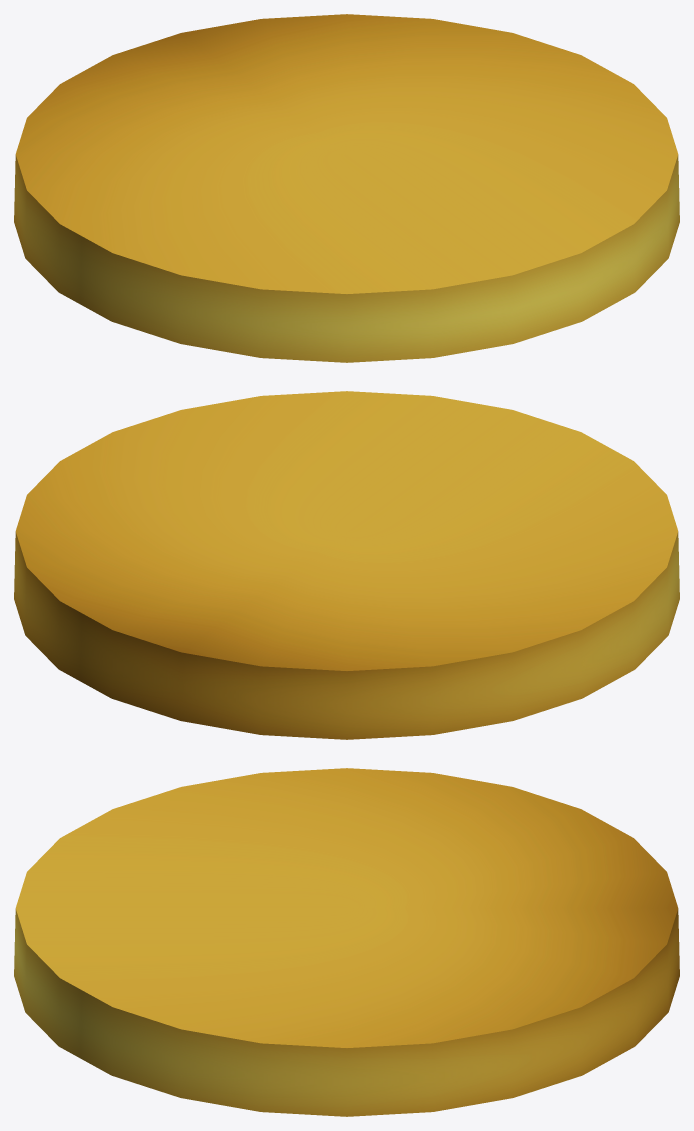
Rendered from basepaloPelota.obj.
3 renders of one model, top to bottom at view 1: azimuth 30°, elevation 25°; view 2: azimuth 150°, elevation 25°; view 3: azimuth 270°, elevation 25°, orthographic.
Parts seen in each view (by area): view 1: Cone001; view 2: Cone001; view 3: Cone001.
Part boxes in pixels (left/top/right/bottom): Cone001: left=14, top=14, right=679, bottom=362; Cone001: left=14, top=391, right=679, bottom=739; Cone001: left=14, top=768, right=679, bottom=1116.
Size of the model in its own units: 10.19 by 1.15 by 10.19.
